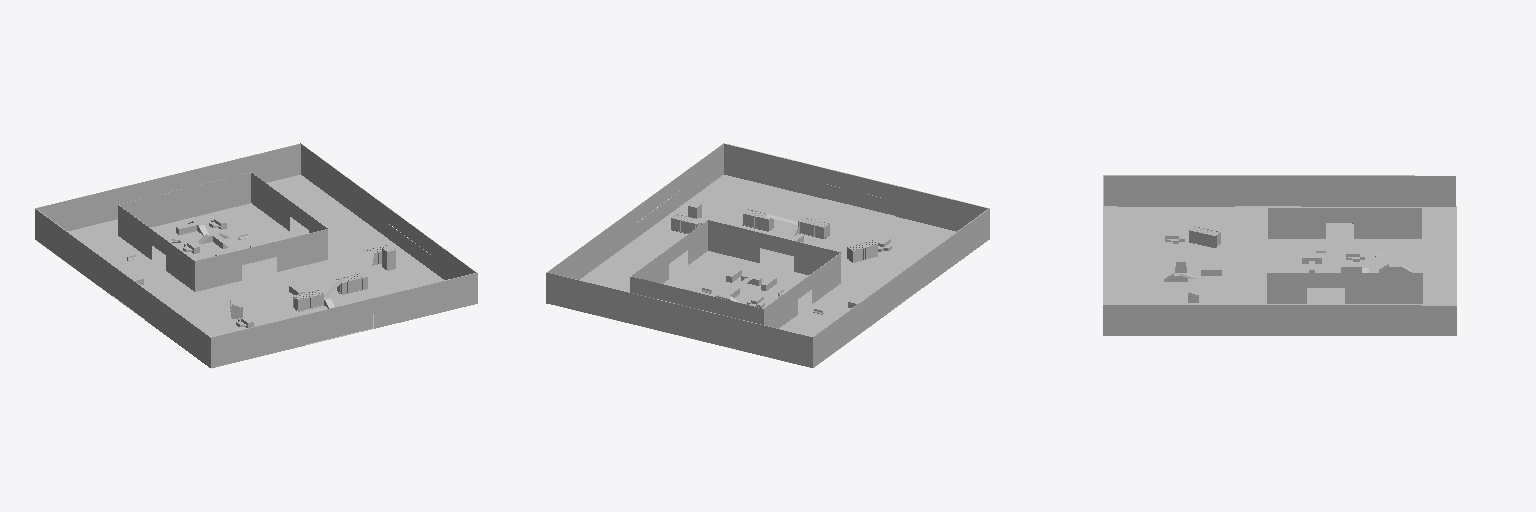
File: map2.obj
3 views of the same model, side by side, from view 1: azimuth 30°, elevation 25°; view 2: azimuth 150°, elevation 25°; view 3: azimuth 270°, elevation 25° (orthographic).
Visible parts, largest first — view 1: Cube.014, Plane, Cube.013, Cube.017, Cube.015; view 2: Cube.014, Plane, Cube.013, Cube.017, Cube.015; view 3: Plane, Cube.014, Cube.013, Cube.015, Cube.016.
Part boxes in pixels (left/top/right/bottom): Cube.014: left=35, top=143, right=477, bottom=367; Plane: left=36, top=175, right=443, bottom=368; Cube.013: left=118, top=172, right=327, bottom=291; Cube.017: left=305, top=314, right=372, bottom=344; Cube.015: left=388, top=224, right=432, bottom=270; Cube.014: left=546, top=143, right=989, bottom=367; Plane: left=555, top=175, right=955, bottom=367; Cube.013: left=630, top=220, right=840, bottom=328; Cube.017: left=827, top=184, right=896, bottom=215; Cube.015: left=635, top=191, right=679, bottom=238; Plane: left=1104, top=206, right=1456, bottom=304; Cube.014: left=1103, top=175, right=1456, bottom=335; Cube.013: left=1267, top=208, right=1422, bottom=303; Cube.015: left=1192, top=321, right=1280, bottom=335; Cube.016: left=1235, top=191, right=1300, bottom=205.
Bounding box in the file's own units: 92.97 × 10.33 × 107.